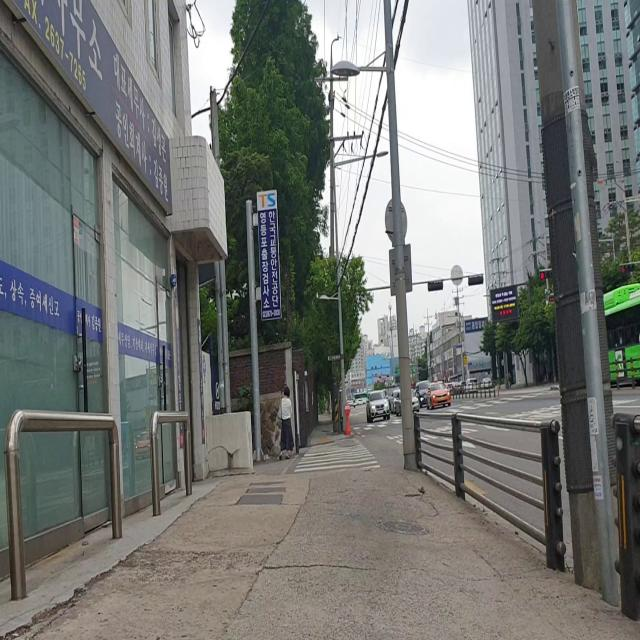횡단보도: (294, 438, 381, 472)
